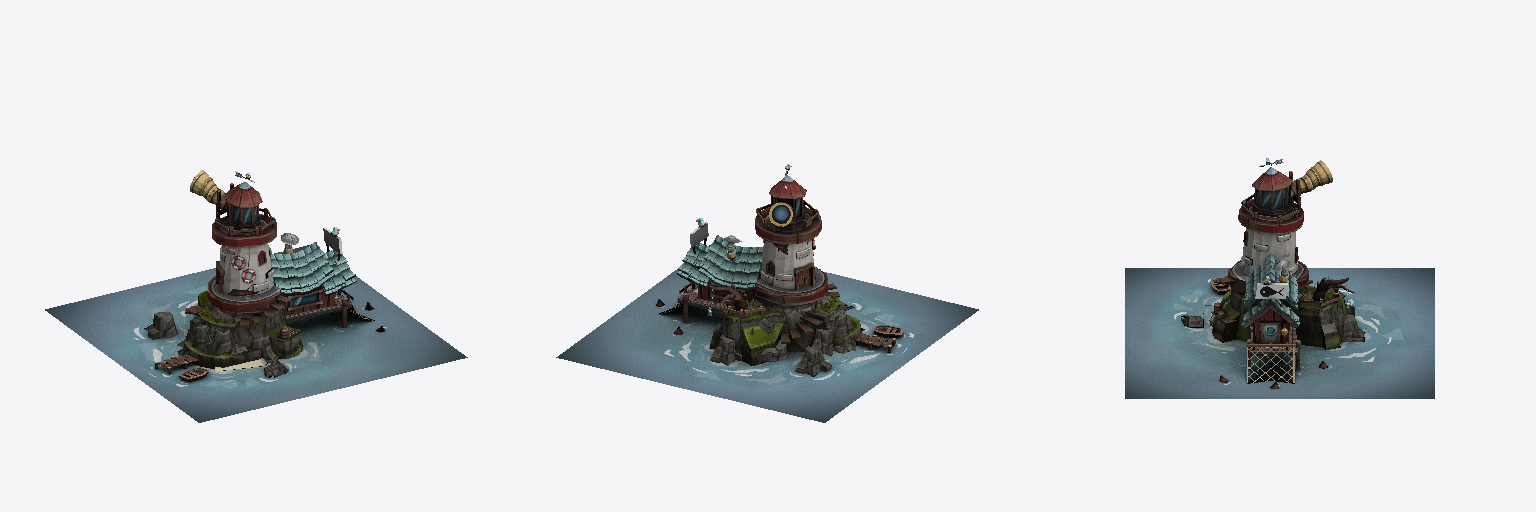
3 renders of one model, left to right at view 1: azimuth 30°, elevation 25°; view 2: azimuth 150°, elevation 25°; view 3: azimuth 270°, elevation 25°, orthographic.
Visible parts, largest first — view 1: Plane002_22_-_Default_0; view 2: Plane002_22_-_Default_0; view 3: Plane002_22_-_Default_0.
Part boxes in pixels (bbox=[...]): Plane002_22_-_Default_0: bbox=[45, 170, 467, 422]; Plane002_22_-_Default_0: bbox=[556, 164, 978, 422]; Plane002_22_-_Default_0: bbox=[1125, 158, 1434, 398].
Size of the model in its own units: 15.09 by 9.82 by 15.09.
Materials: 34 (28 with a texture image).